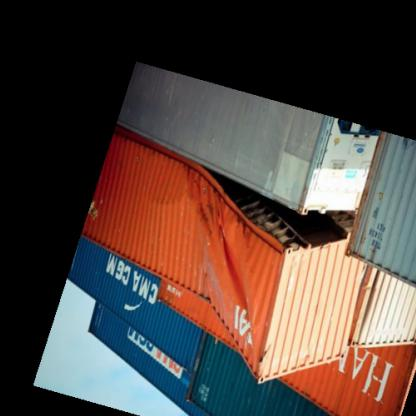Damage: (189, 174, 286, 342)
